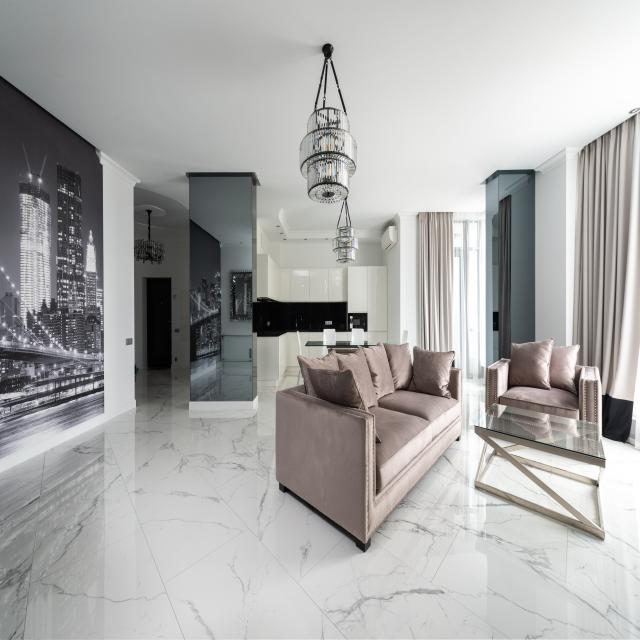floor: (0, 361, 640, 640), (479, 455, 585, 524), (520, 462, 602, 529), (508, 448, 600, 479), (488, 436, 518, 448), (481, 444, 494, 471)
wall: (0, 155, 139, 473), (134, 226, 190, 369), (535, 160, 566, 347), (400, 214, 420, 362), (221, 247, 252, 336), (281, 243, 383, 268), (566, 153, 578, 346), (383, 220, 400, 344), (221, 336, 253, 362), (257, 222, 270, 256), (252, 238, 257, 302), (134, 222, 149, 241), (270, 241, 280, 269), (252, 332, 257, 367), (257, 380, 276, 386), (280, 242, 281, 269)
